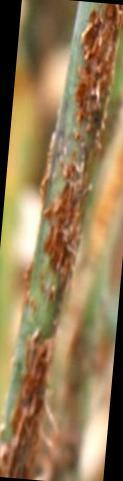Sugarcane: (12, 16, 117, 398)
